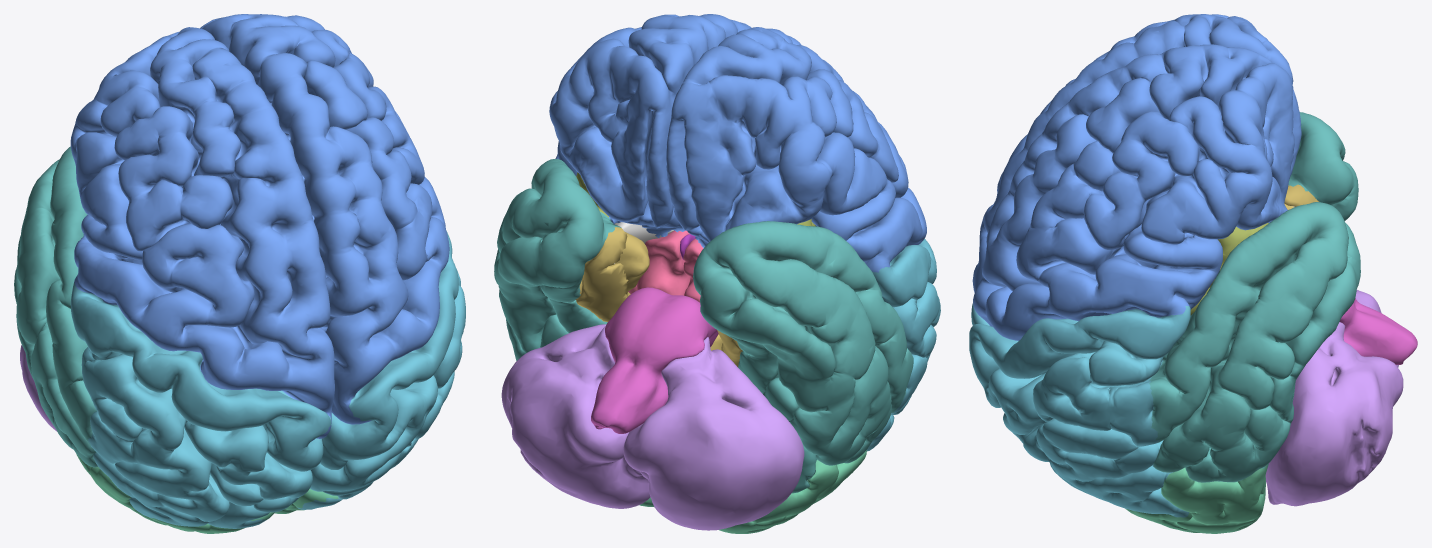
File: brain_macro.glb
3 views of the same model, side by side, from view 1: azimuth 30°, elevation 25°; view 2: azimuth 150°, elevation 25°; view 3: azimuth 270°, elevation 25° (orthographic).
Visible parts, largest first — view 1: Macro-Left-frontal, Macro-Right-frontal, Macro-Left-parietal, Macro-Left-temporal, Macro-Right-parietal, Macro-Left-occipital, Macro-Left-cerebellum; view 2: Macro-Left-frontal, Macro-Left-temporal, Macro-Right-frontal, Macro-Left-cerebellum, Macro-Right-cerebellum, Macro-Right-temporal, Macro-Mid-brainstem, Macro-Left-parietal, Macro-Right-limbic, Macro-Left-occipital, Macro-Right-dienceph, Macro-Right-limbic_deep (+1 smaller); view 3: Macro-Right-frontal, Macro-Right-temporal, Macro-Right-parietal, Macro-Right-cerebellum, Macro-Left-frontal, Macro-Right-occipital, Macro-Left-temporal, Macro-Mid-brainstem, Macro-Right-insula.
Part boxes in pixels (x1,y1,x2,y2): Macro-Left-frontal: (70,27,334,441); Macro-Right-frontal: (200,14,449,424); Macro-Left-parietal: (70,282,331,528); Macro-Left-temporal: (14,146,97,467); Macro-Right-parietal: (297,230,465,509); Macro-Left-occipital: (76,454,274,533); Macro-Left-cerebellum: (20,345,57,431); Macro-Left-frontal: (666,27,926,272); Macro-Left-temporal: (693,221,913,493); Macro-Right-frontal: (549,14,751,238); Macro-Left-cerebellum: (623,337,804,530); Macro-Right-cerebellum: (501,324,650,508); Macro-Right-temporal: (494,159,621,360); Macro-Mid-brainstem: (591,287,718,433); Macro-Left-parietal: (866,238,940,451); Macro-Right-limbic: (575,227,722,350); Macro-Left-occipital: (719,450,866,533); Macro-Right-dienceph: (628,230,690,295); Macro-Right-limbic_deep: (614,231,649,296); Macro-Right-frontal: (973,44,1301,340); Macro-Right-temporal: (1149,202,1360,482); Macro-Right-parietal: (969,306,1190,517); Macro-Right-cerebellum: (1265,322,1403,506); Macro-Left-frontal: (972,14,1298,292); Macro-Right-occipital: (1125,465,1267,533); Macro-Left-temporal: (1288,112,1358,220); Macro-Mid-brainstem: (1339,298,1417,364); Macro-Right-insula: (1190,223,1268,315).
Size of the model in its own units: 144 by 181 by 154.
